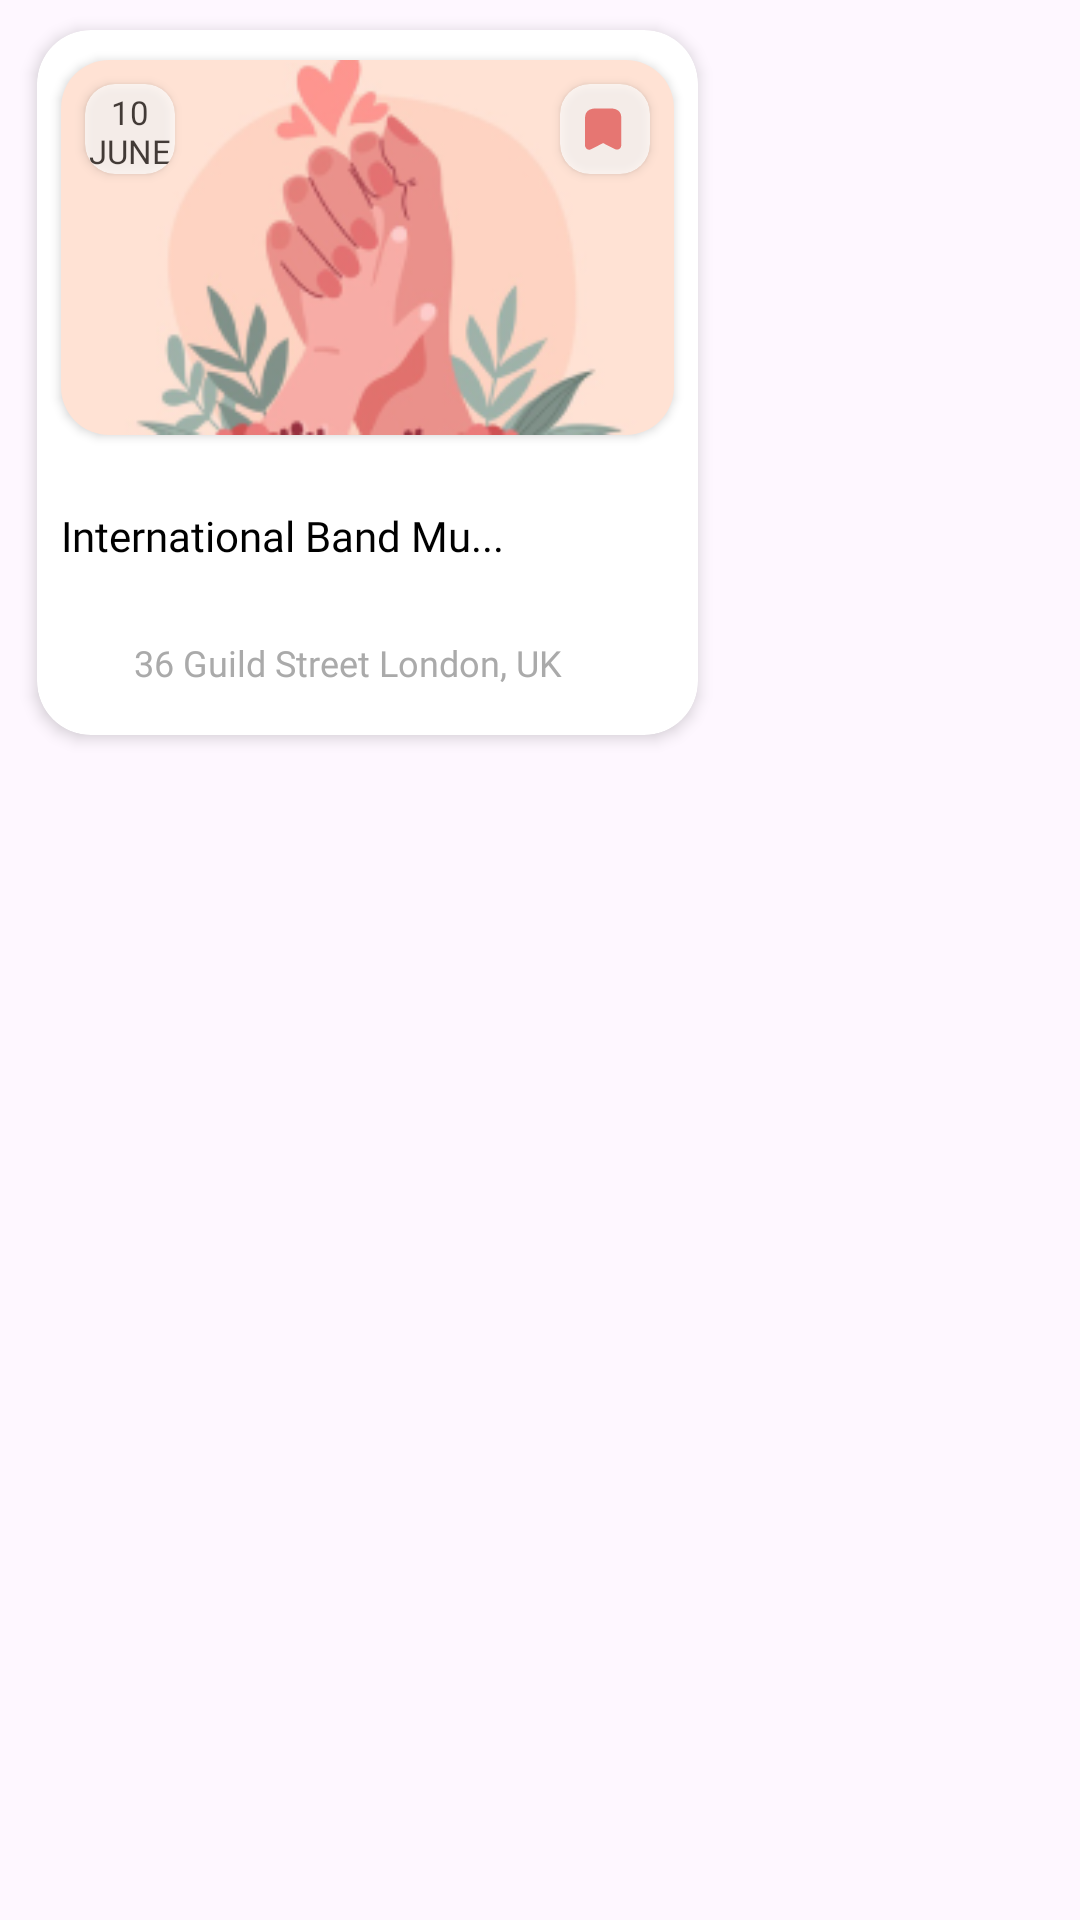

Screen size 1080x1920. Icon name, then its box in pixels as (x1, y1, x2, y2):
bookmark: (585, 108, 622, 150)
